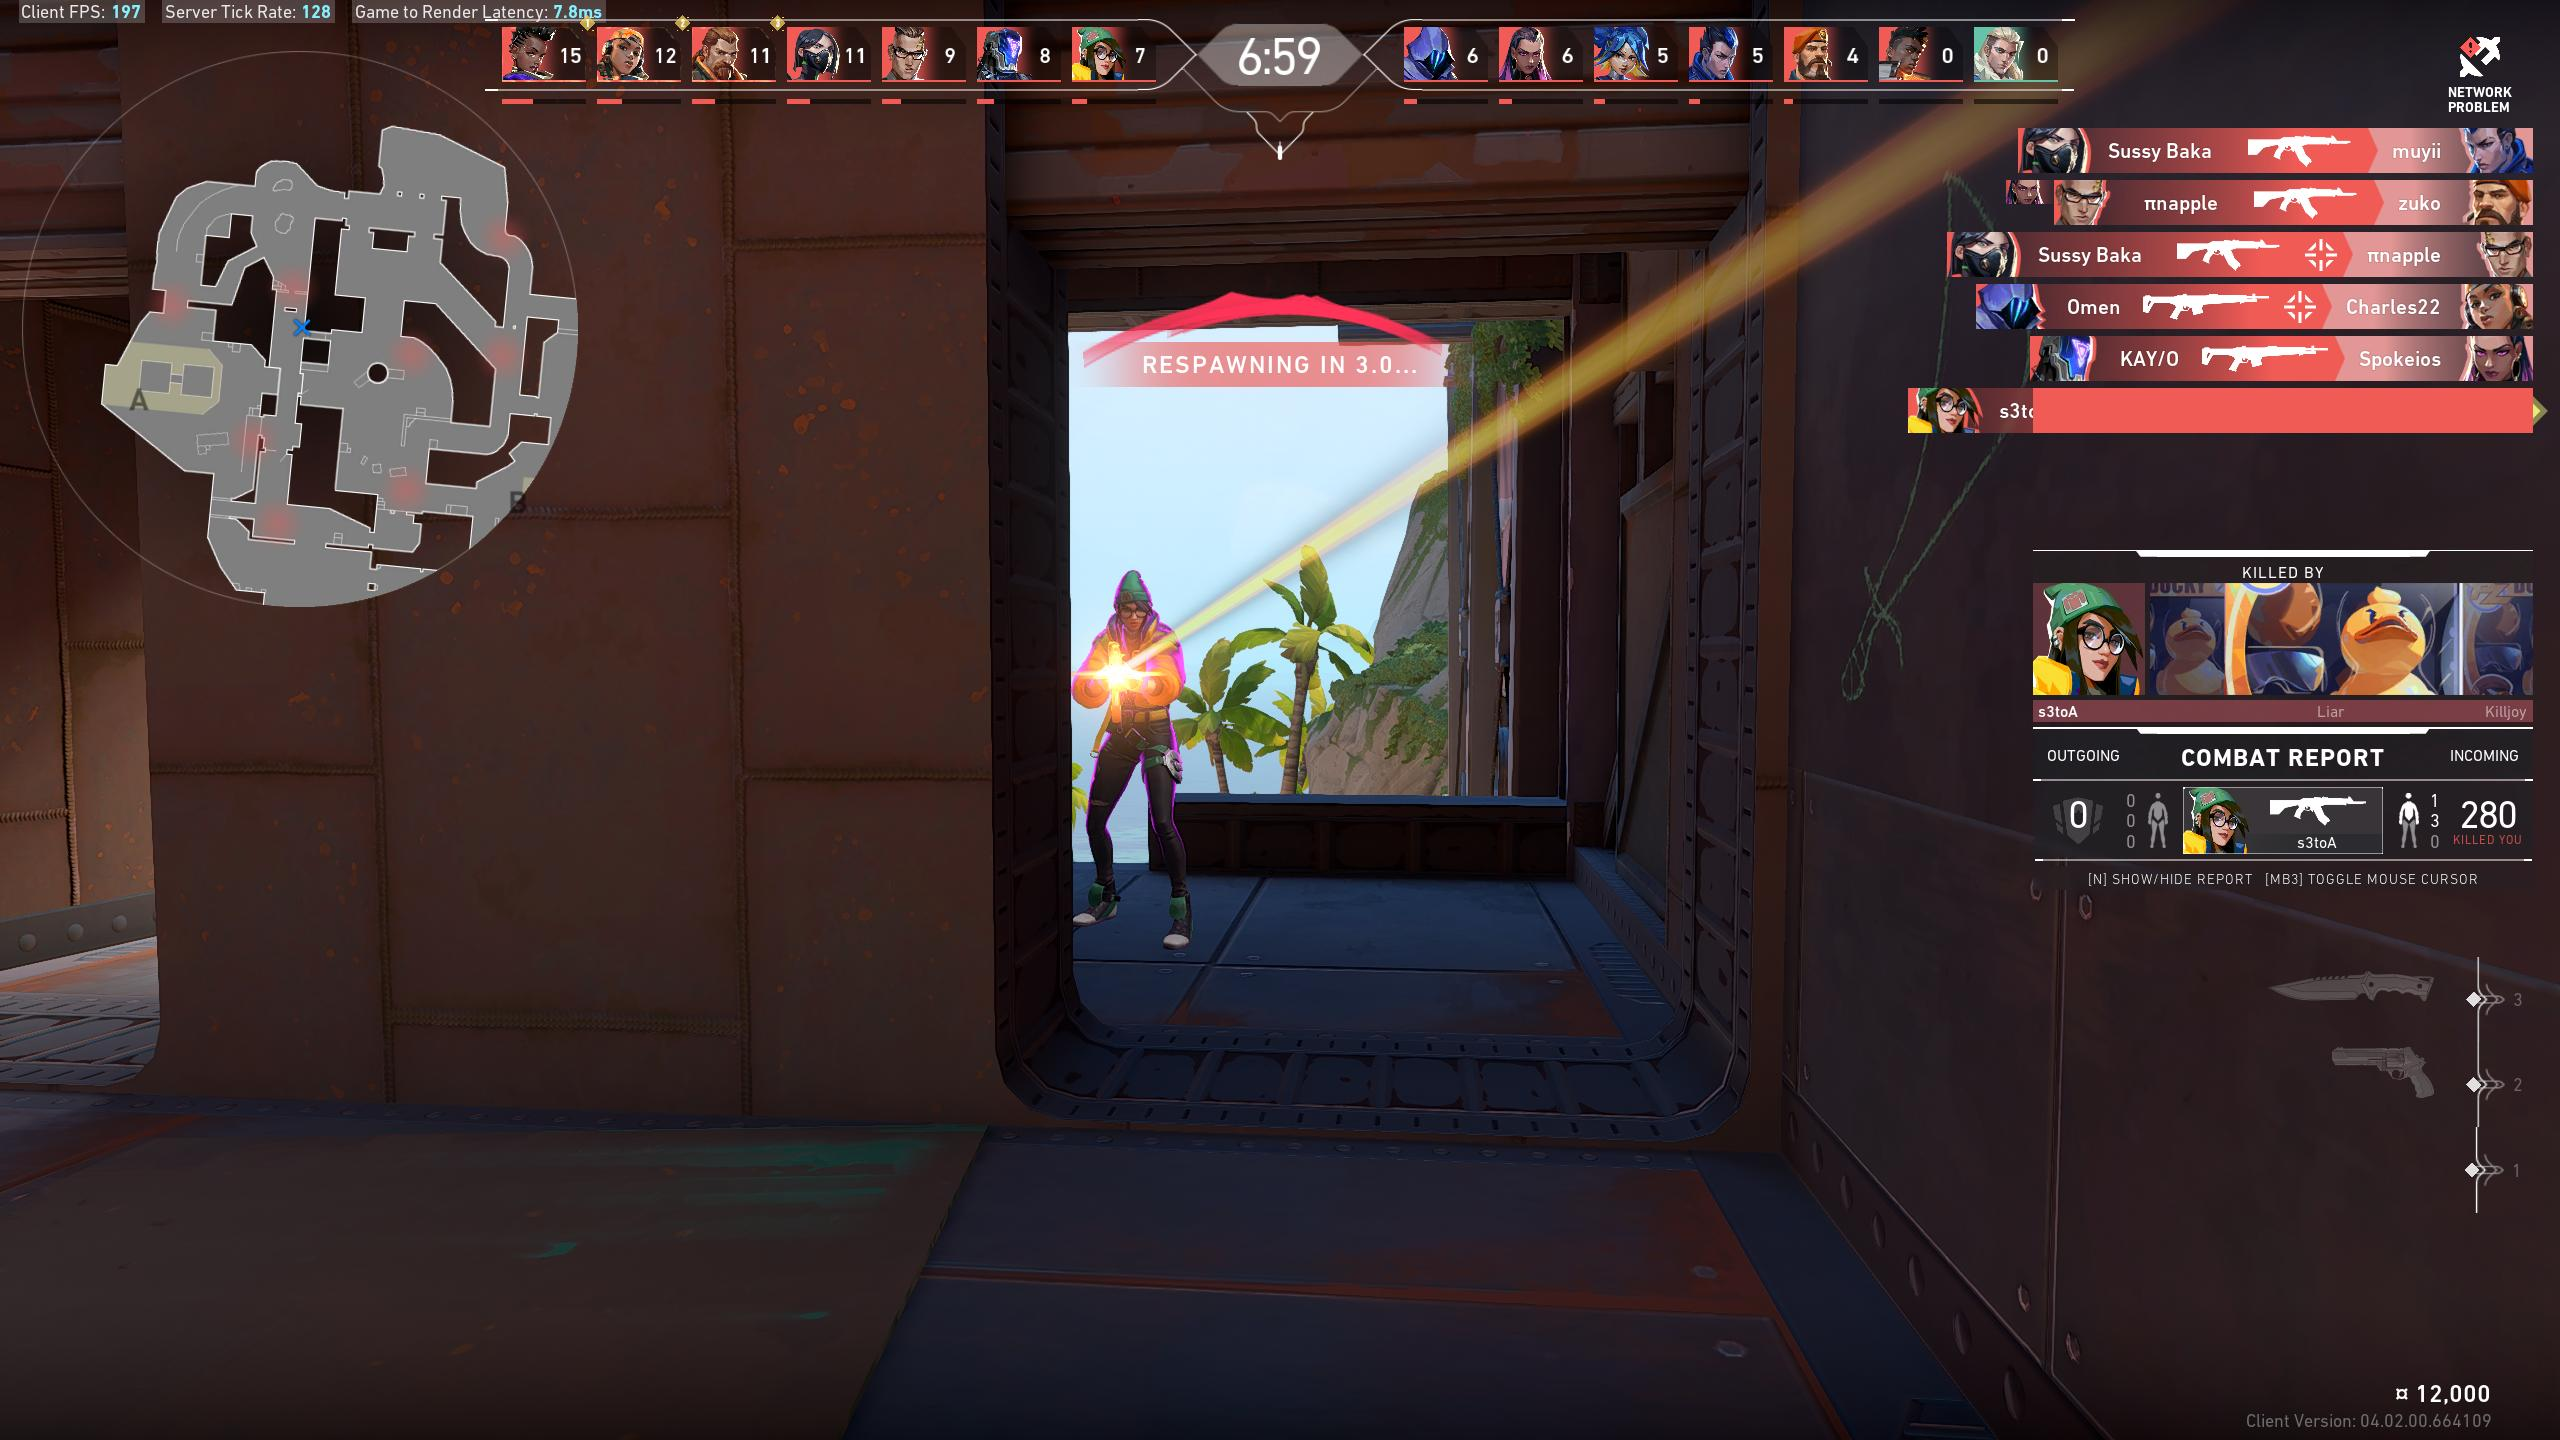enemyBody: (1109, 636, 1164, 707)
enemyHead: (1118, 593, 1152, 624)
